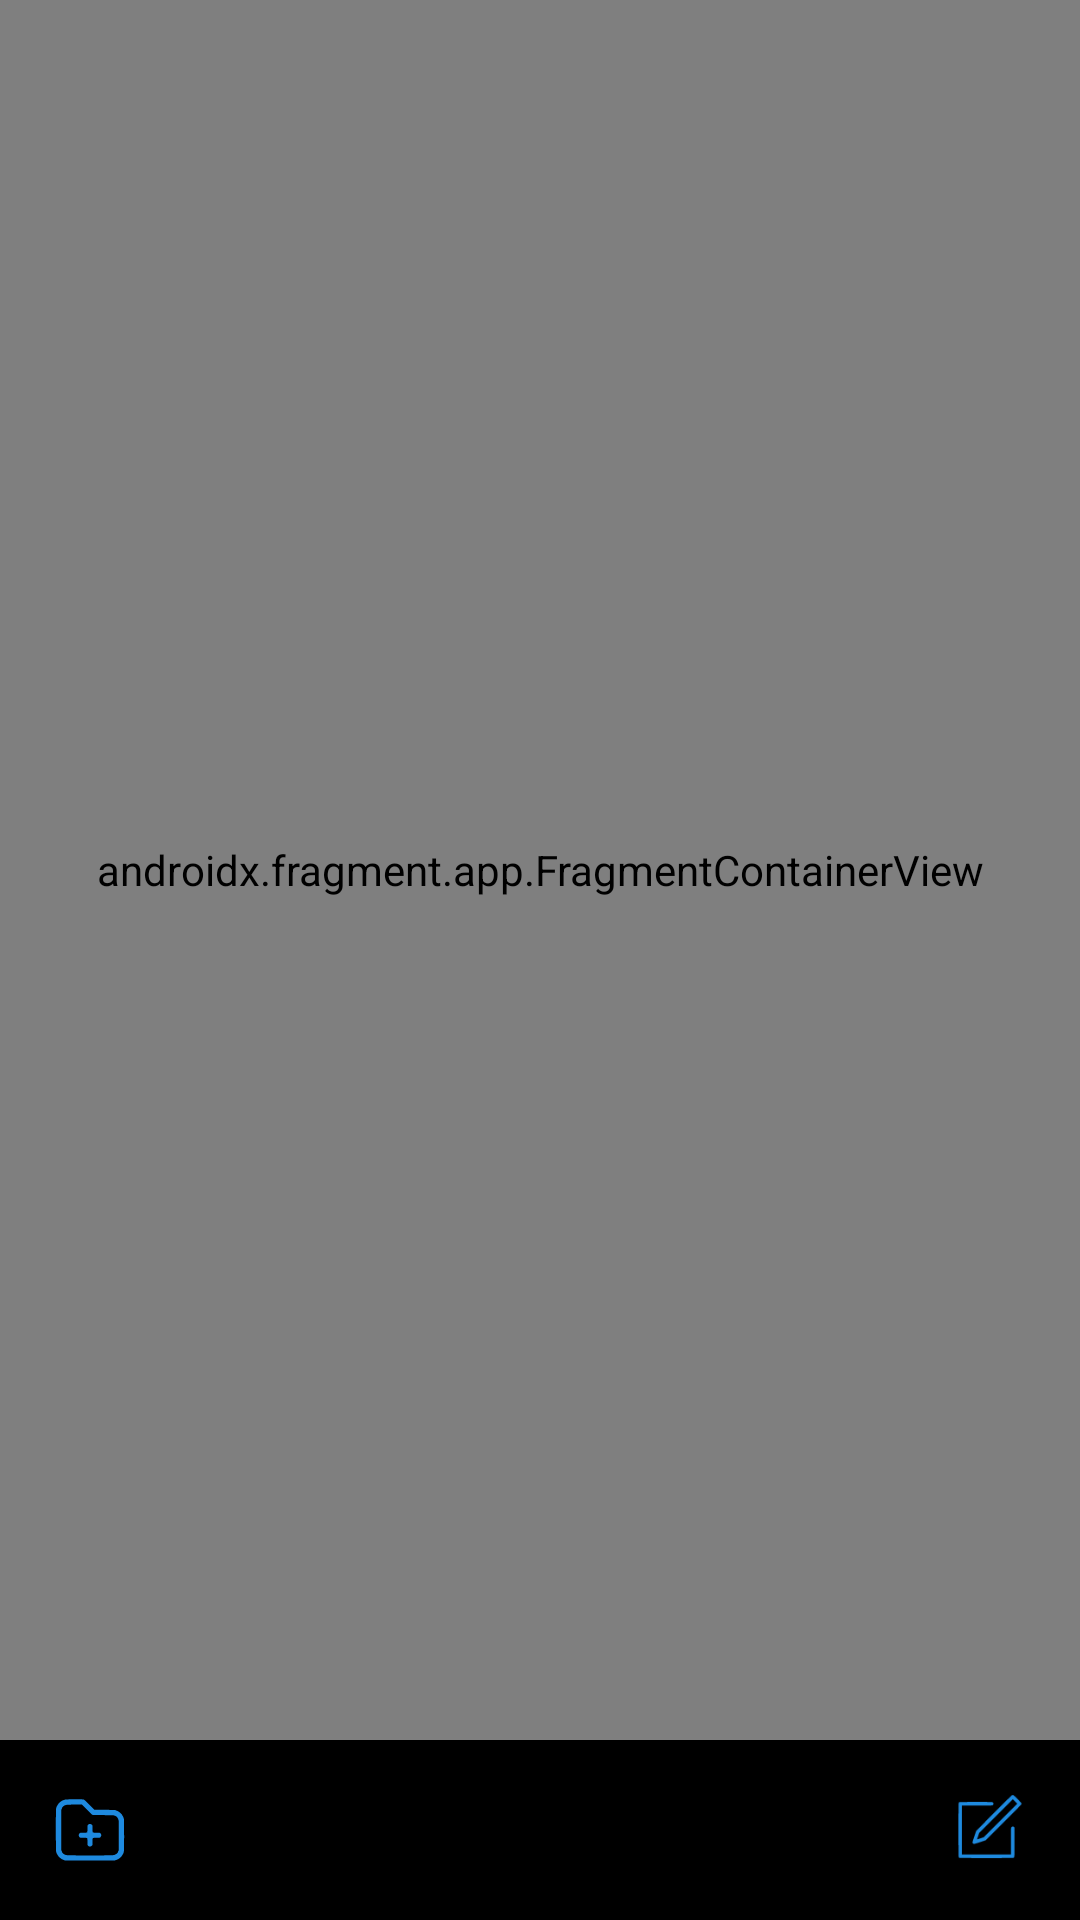

Screen size 1080px×1920px. Icon name, then its box in pixels as (x1, y1, x2, y2):
add folder: (55, 1799, 125, 1861)
add note: (958, 1795, 1022, 1858)
